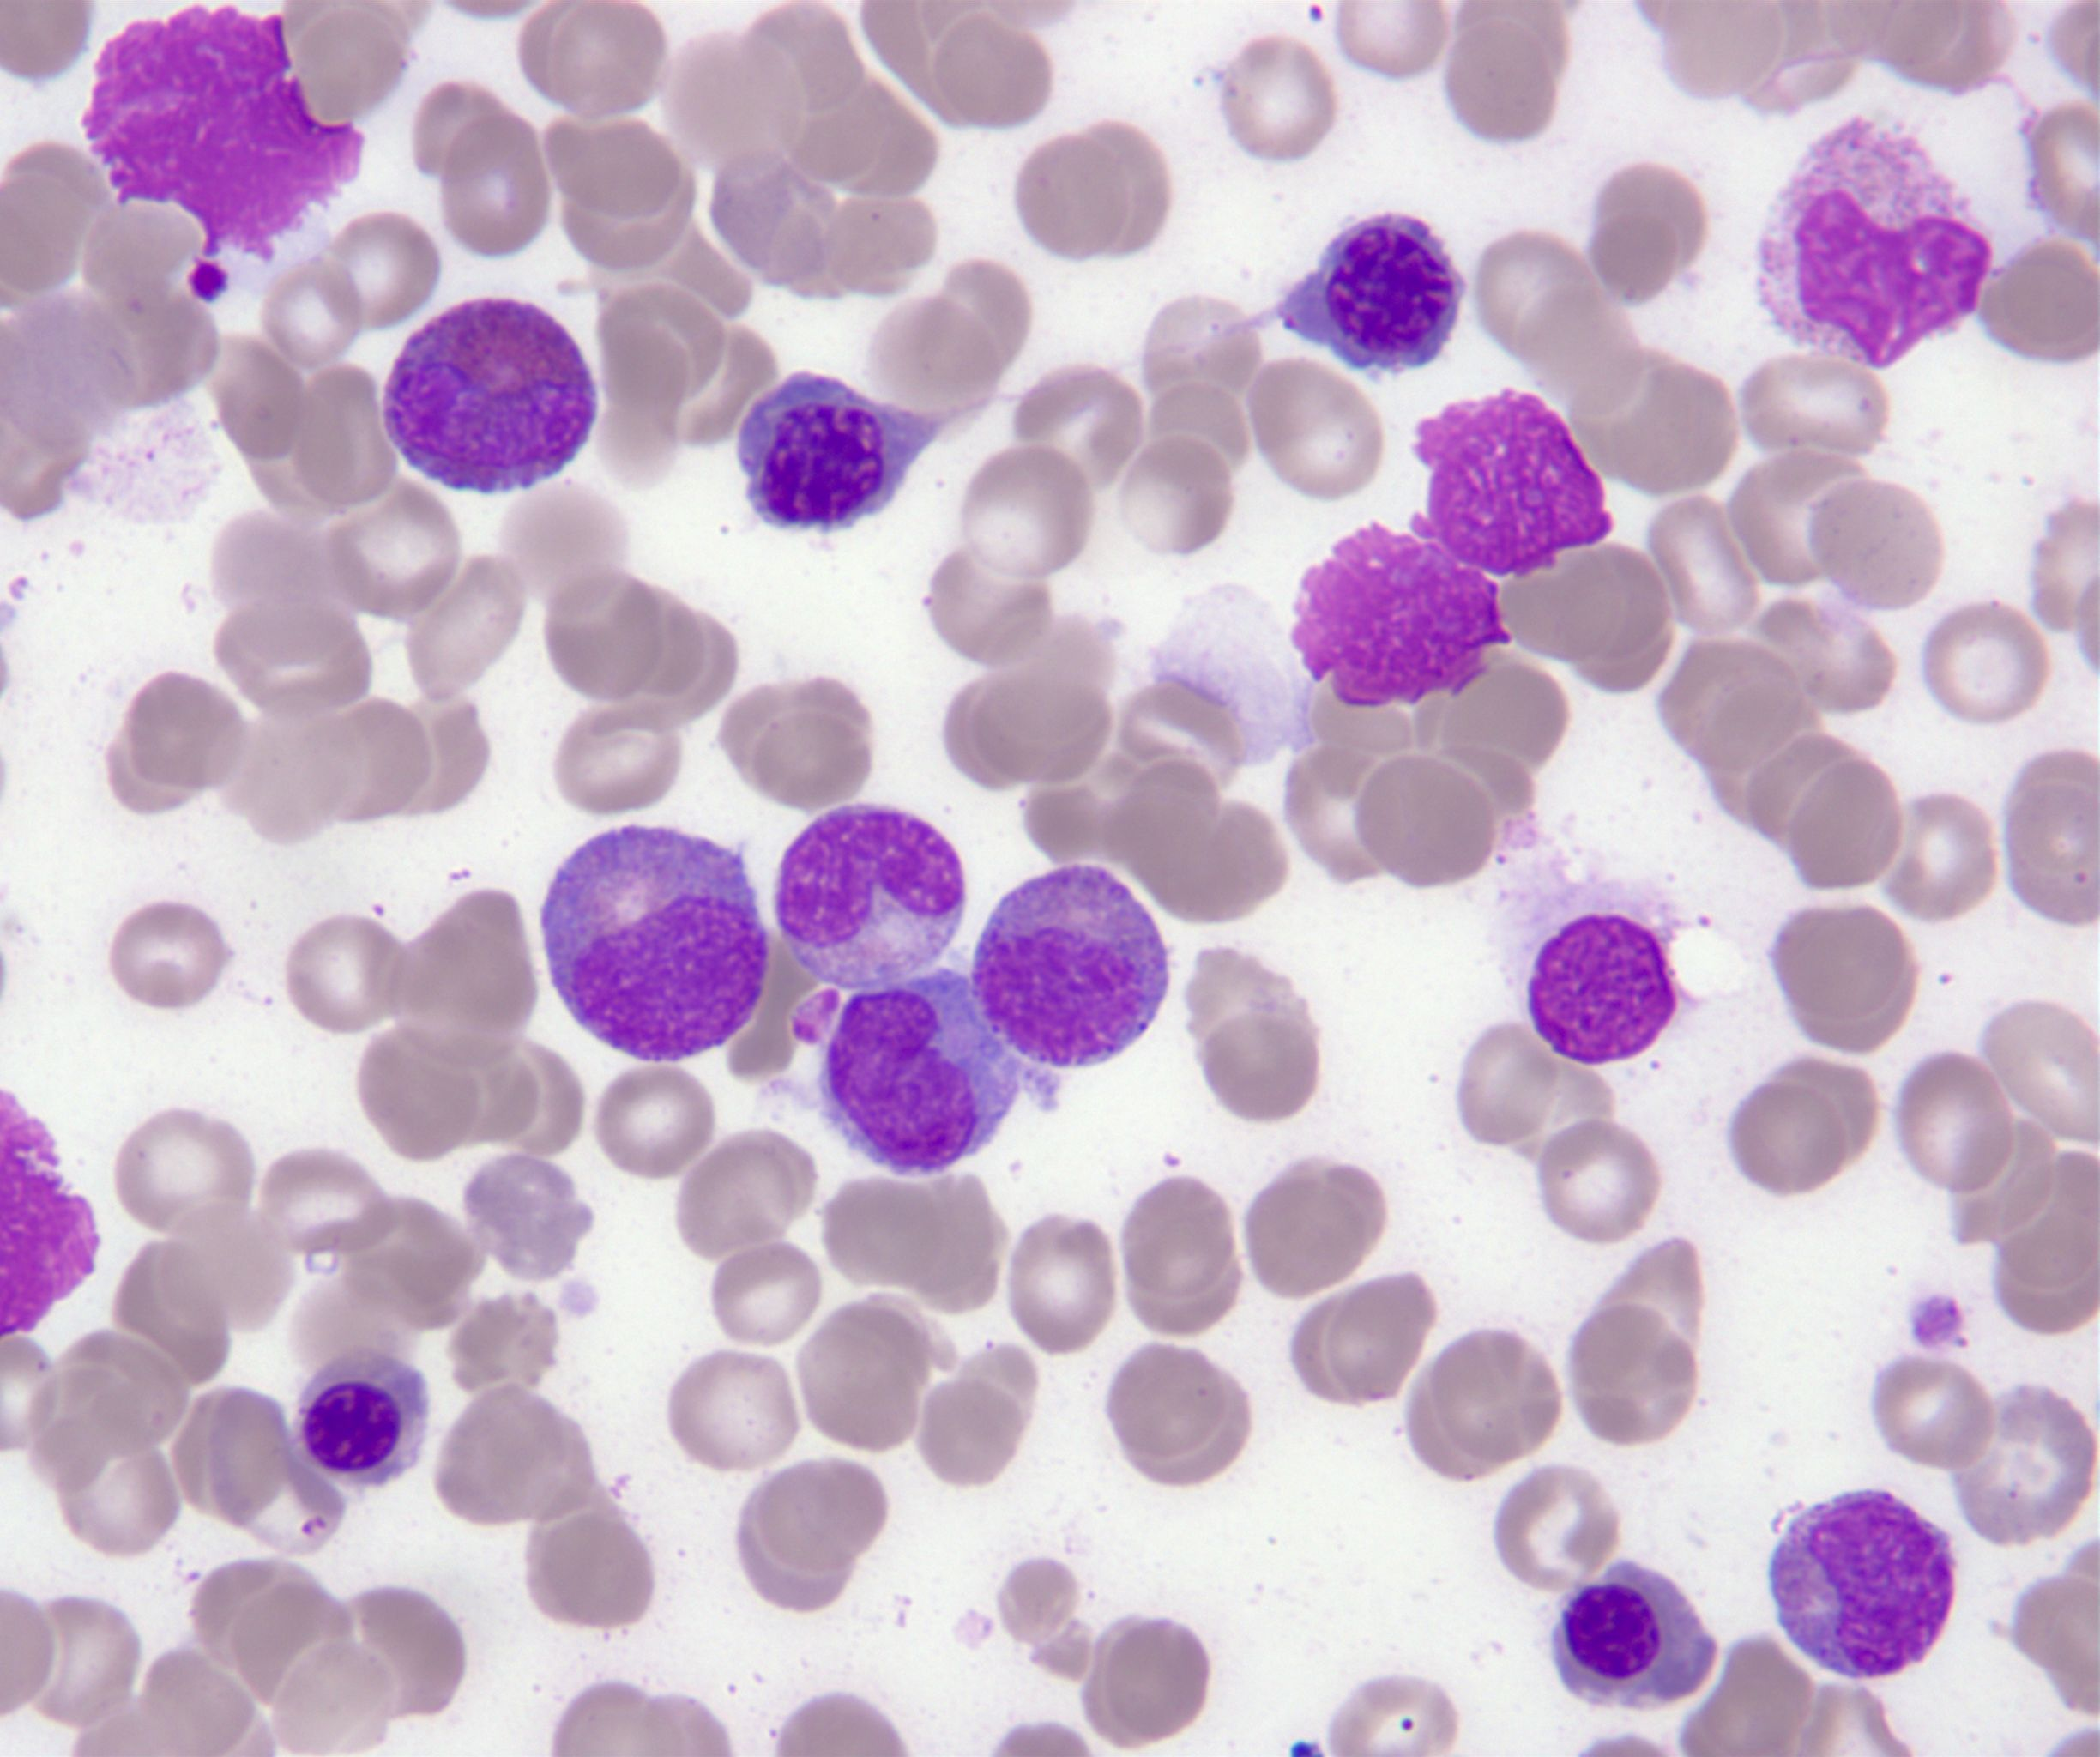23: (736, 373, 958, 529), (1259, 211, 1462, 373)
24: (1551, 1558, 1720, 1703), (291, 1347, 426, 1492)
3: (541, 829, 766, 1059), (970, 865, 1169, 1066)
4: (1758, 115, 1987, 366), (776, 810, 963, 991), (1772, 1492, 1953, 1677)
42: (818, 974, 1022, 1176)
E3: (382, 302, 597, 492)
x: (82, 3, 363, 298), (1498, 817, 1683, 1066), (1291, 525, 1512, 710), (1413, 391, 1613, 578)
